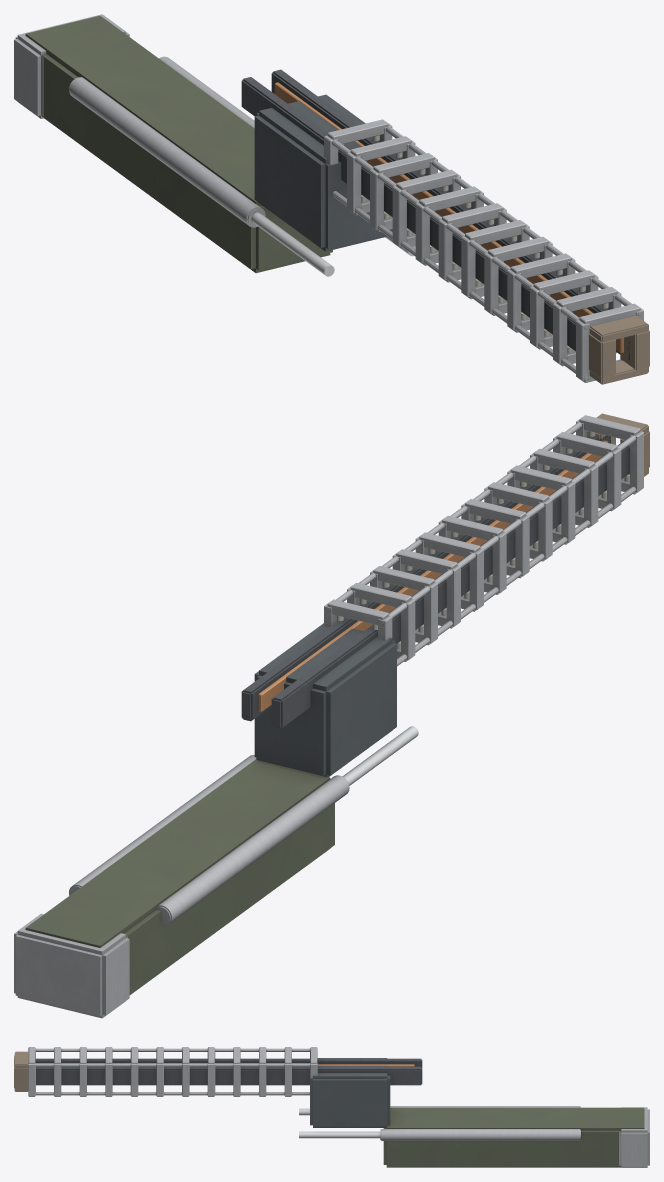
File: att_spinal_railgun.glb
3 views of the same model, one above another, from view 1: azimuth 30°, elevation 25°; view 2: azimuth 150°, elevation 25°; view 3: azimuth 270°, elevation 25° (orthographic). The views are drawn at different scales.
Visible parts, largest first — view 1: TEX_Spinal_Railgun_Mesh; view 2: TEX_Spinal_Railgun_Mesh; view 3: TEX_Spinal_Railgun_Mesh.
Part boxes in pixels (x1,y1,x2,y2): TEX_Spinal_Railgun_Mesh: (14, 14, 649, 384); TEX_Spinal_Railgun_Mesh: (14, 413, 649, 1018); TEX_Spinal_Railgun_Mesh: (14, 1047, 649, 1167).
Size of the model in its own units: 0.516 by 0.879 by 4.92.
1 material, 1 textured.
